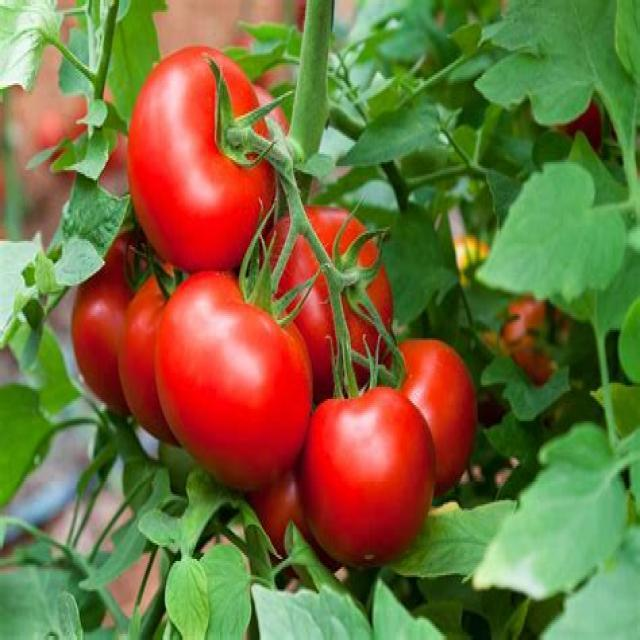Tomato: (125, 22, 284, 257), (166, 262, 303, 490), (301, 370, 443, 556)
